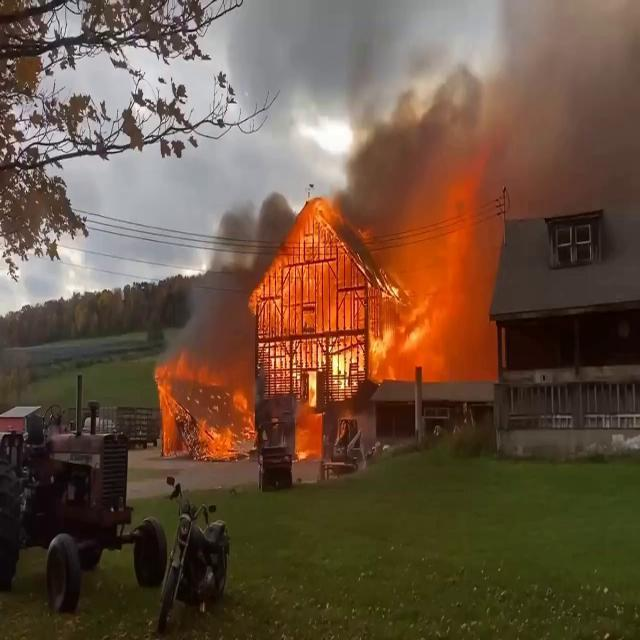Fire: (258, 198, 484, 389), (151, 352, 239, 460)
Smoke: (351, 0, 640, 250), (180, 196, 281, 346)
